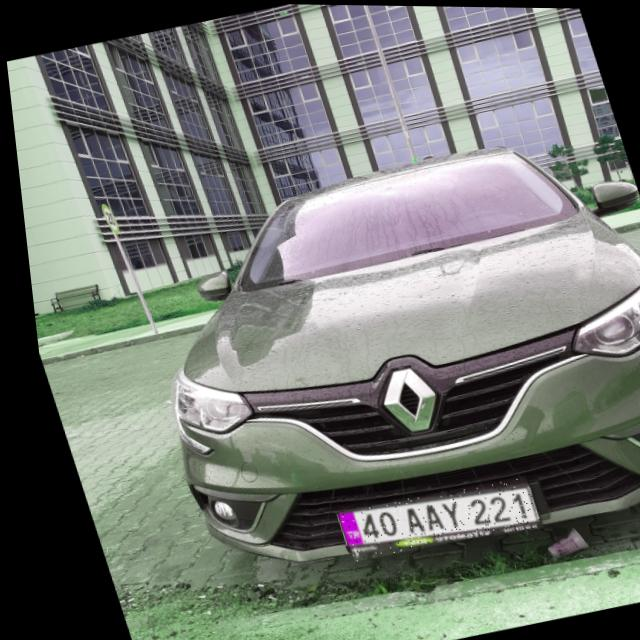license_plate: (323, 471, 532, 562)
